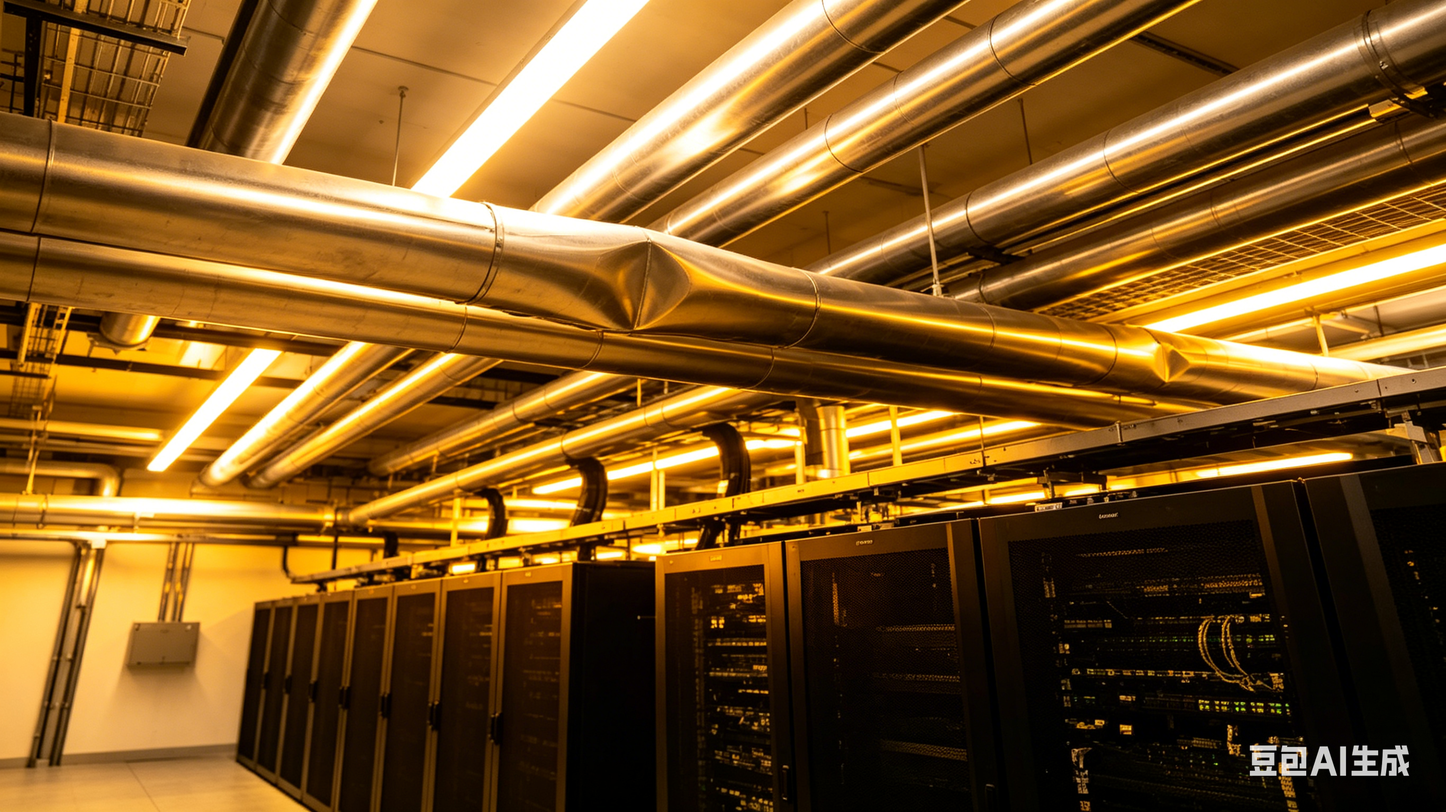Leakage: (583, 235, 705, 355), (1138, 331, 1202, 392)
